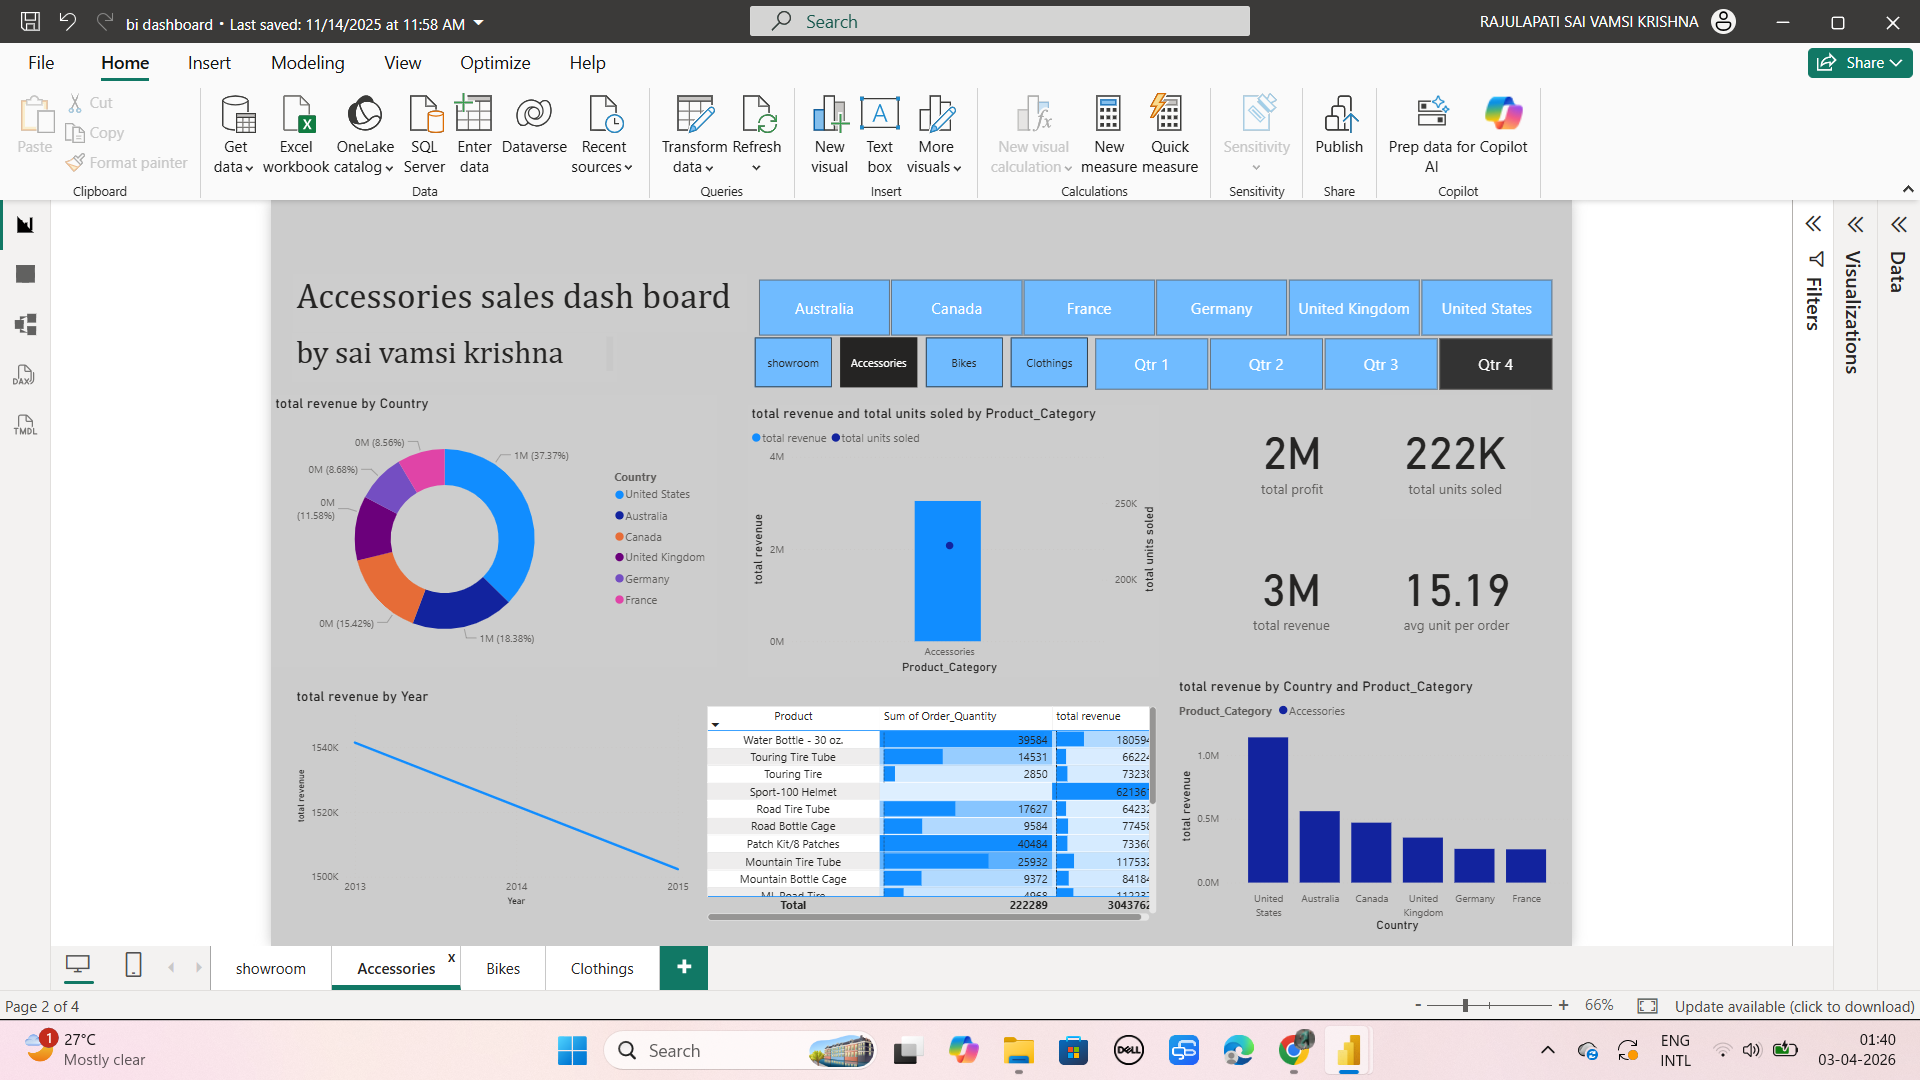

Layout of this report page (visuals, bound fields, positions):
{"tool":"powerbi","page":{"name":"Accessories","canvas":[1570,900],"ordinal":1},"visuals":[{"type":"slicer","fields":{"Values":["BikeSales-DB.Country"]},"box":[562.5,89,1007.4,81.4],"z":0},{"type":"slicer","fields":{"Values":["BikeSales-DB.Date.Variation.Date Hierarchy.Quarter"]},"box":[968.2,159.9,601.7,75.4],"z":1000},{"type":"card","fields":{"Values":["BikeSales-DB.total revenue"]},"box":[1131,399.6,200.6,149.3],"z":3000},{"type":"card","fields":{"Values":["BikeSales-DB.avg unit per order"]},"box":[1339.1,399.6,182.5,149.3],"z":4000},{"type":"card","fields":{"Values":["BikeSales-DB.total units soled"]},"box":[1337.6,235.3,182.5,149.3],"z":5000},{"type":"card","fields":{"Values":["BikeSales-DB.total profit"]},"box":[1138.6,235.3,187,149.3],"z":6000},{"type":"donutChart","fields":{"Category":["BikeSales-DB.Country"],"Y":["BikeSales-DB.total revenue"]},"box":[0,235.3,538.4,328.8],"z":7000},{"type":"lineClusteredColumnComboChart","fields":{"Category":["BikeSales-DB.Product_Category"],"Y":["BikeSales-DB.total revenue"],"Y2":["BikeSales-DB.total units soled"]},"box":[574.6,247.3,497.7,328.8],"z":8000},{"type":"lineChart","fields":{"Category":["BikeSales-DB.Year"],"Y":["BikeSales-DB.total revenue"]},"box":[25,588.3,483.3,268.3],"z":9000},{"type":"tableEx","fields":{"Values":["BikeSales-DB.Product","Sum(BikeSales-DB.Order_Quantity)","BikeSales-DB.total revenue"]},"box":[520,606.7,553.3,268.3],"z":10000},{"type":"textbox","box":[25.2,89.2,548.7,70.7],"z":11000},{"type":"textbox","box":[25.6,159.9,392.1,60.3],"z":12000},{"type":"columnChart","fields":{"Category":["BikeSales-DB.Country"],"Series":["BikeSales-DB.Product_Category"],"Y":["BikeSales-DB.total revenue"]},"box":[1090.3,576.1,479.6,312.2],"z":13000},{"type":"pageNavigator","box":[584,166.6,402.3,60.6],"z":13001}]}

Visuals, with their boxes on the page's 1570x900 design canvas (x1, y1, x2, y2). These are canvas units, not pixel positions in the 1920x1080 screenshot, which may show the page scaled, cropped or inside an application window:
slicer - BikeSales-DB.Country: (x1=562, y1=89, x2=1570, y2=170)
slicer - BikeSales-DB.Date.Variation.Date Hierarchy.Quarter: (x1=968, y1=160, x2=1570, y2=235)
card - BikeSales-DB.total revenue: (x1=1131, y1=400, x2=1332, y2=549)
card - BikeSales-DB.avg unit per order: (x1=1339, y1=400, x2=1522, y2=549)
card - BikeSales-DB.total units soled: (x1=1338, y1=235, x2=1520, y2=385)
card - BikeSales-DB.total profit: (x1=1139, y1=235, x2=1326, y2=385)
donutChart - BikeSales-DB.Country x BikeSales-DB.total revenue: (x1=0, y1=235, x2=538, y2=564)
lineClusteredColumnComboChart - BikeSales-DB.Product_Category x BikeSales-DB.total revenue: (x1=575, y1=247, x2=1072, y2=576)
lineChart - BikeSales-DB.Year x BikeSales-DB.total revenue: (x1=25, y1=588, x2=508, y2=857)
tableEx - BikeSales-DB.Product x Sum(BikeSales-DB.Order_Quantity): (x1=520, y1=607, x2=1073, y2=875)
textbox: (x1=25, y1=89, x2=574, y2=160)
textbox: (x1=26, y1=160, x2=418, y2=220)
columnChart - BikeSales-DB.Country x BikeSales-DB.Product_Category: (x1=1090, y1=576, x2=1570, y2=888)
pageNavigator: (x1=584, y1=167, x2=986, y2=227)
